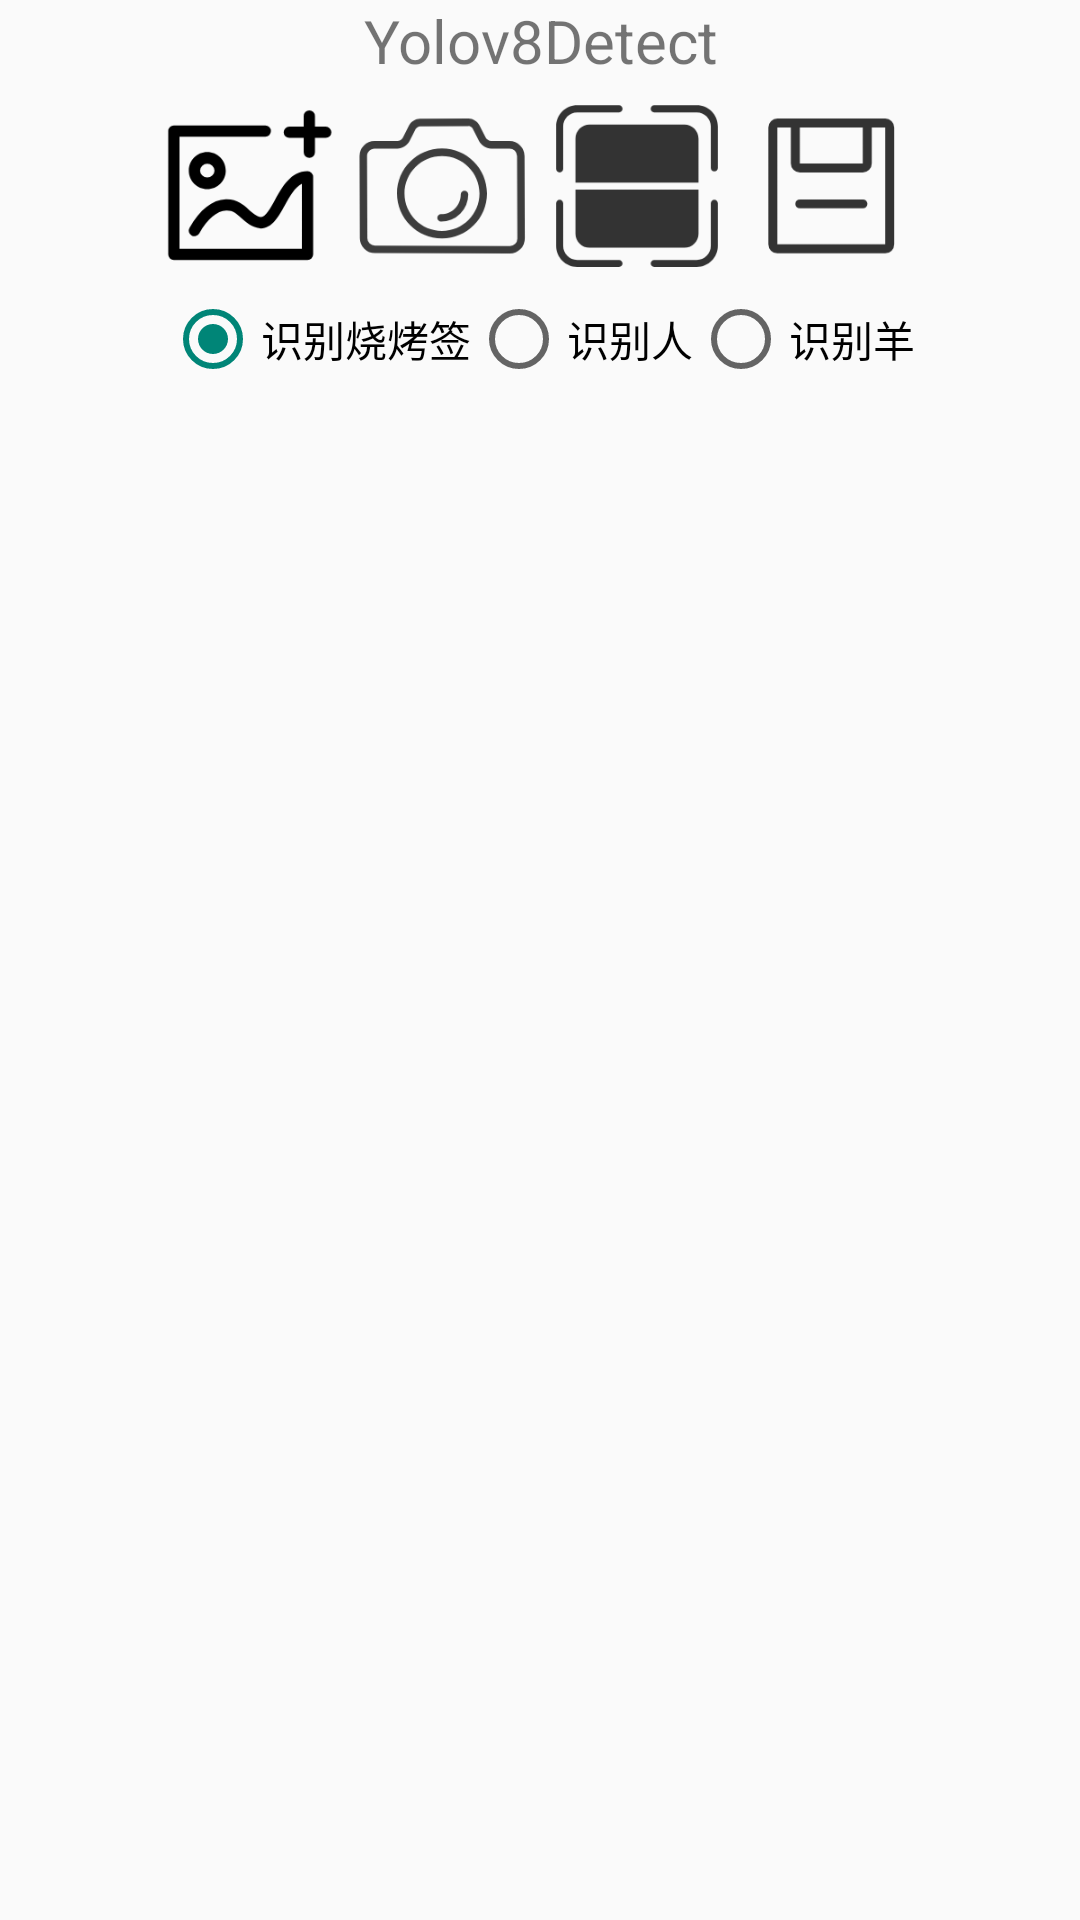

Named icons in this screenshot (1080px×1920px) and their bounding boxes, bbox(x1, y1, x2, y2):
add: bbox(168, 110, 332, 261)
camera: bbox(359, 118, 525, 254)
detect main: bbox(556, 105, 718, 267)
save: bbox(768, 118, 895, 254)
